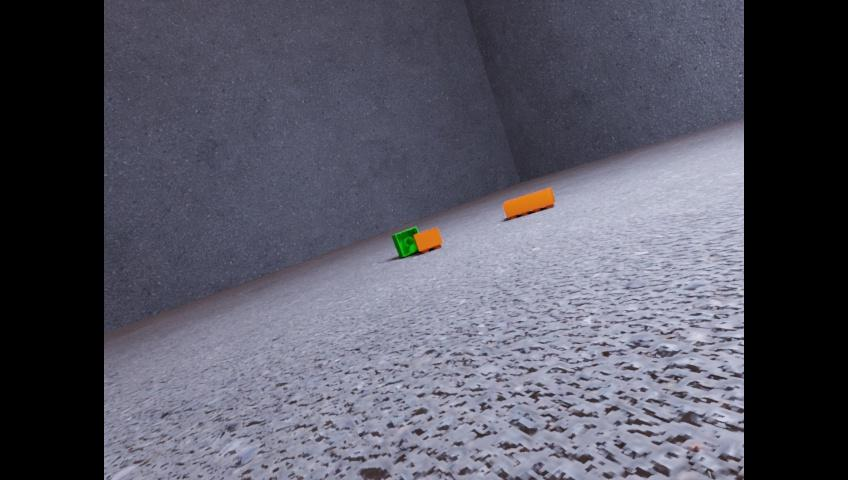2x2_green: (392, 226, 418, 257)
2x2_orange: (413, 227, 441, 253)
4x2_orange: (502, 187, 554, 219)
